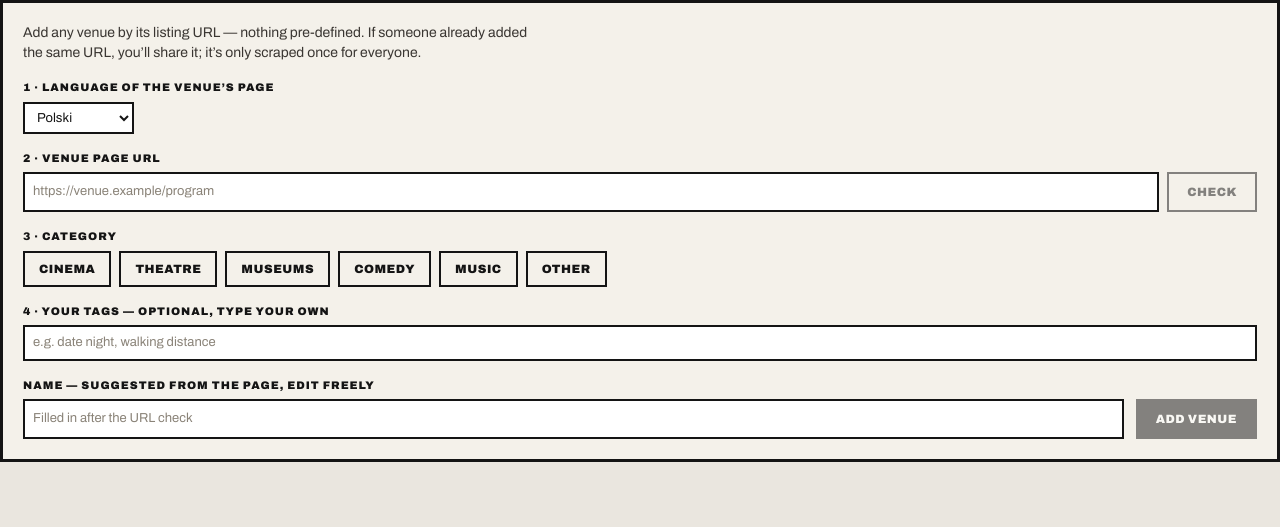
Test: AddVenueForm — failures render by severity, never raw › renders a needs_decision result as ink, not as breakage, and offers the way forward
Type "https://teatr.example/" into the field labelled "2 · Venue page URL" at (591, 192), box left=23, top=172, right=1159, bottom=212
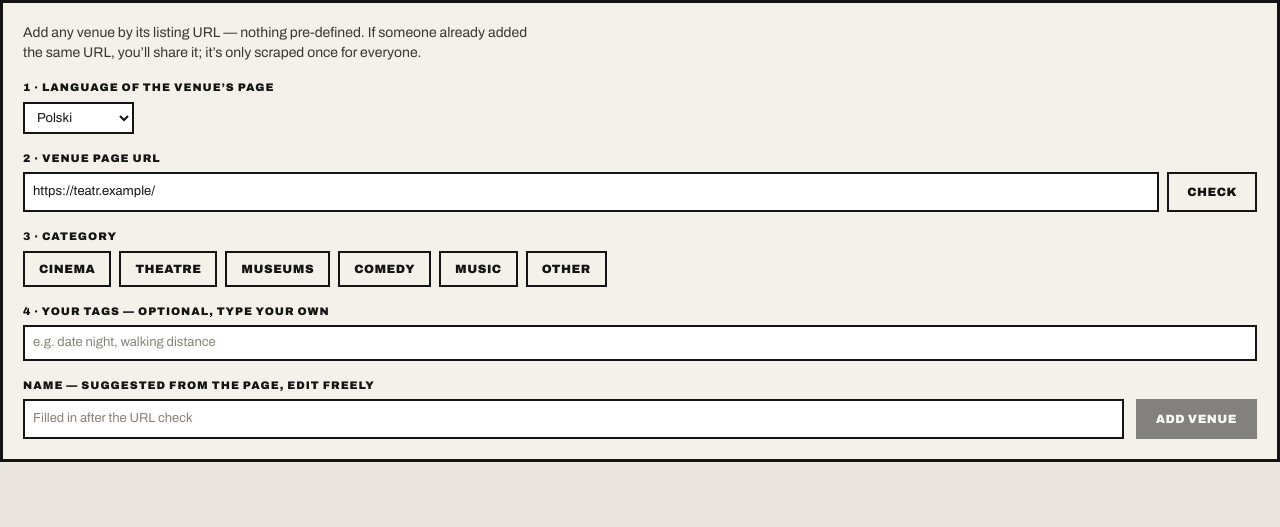
Click the button "Check" at (1212, 192), box left=1167, top=172, right=1257, bottom=212
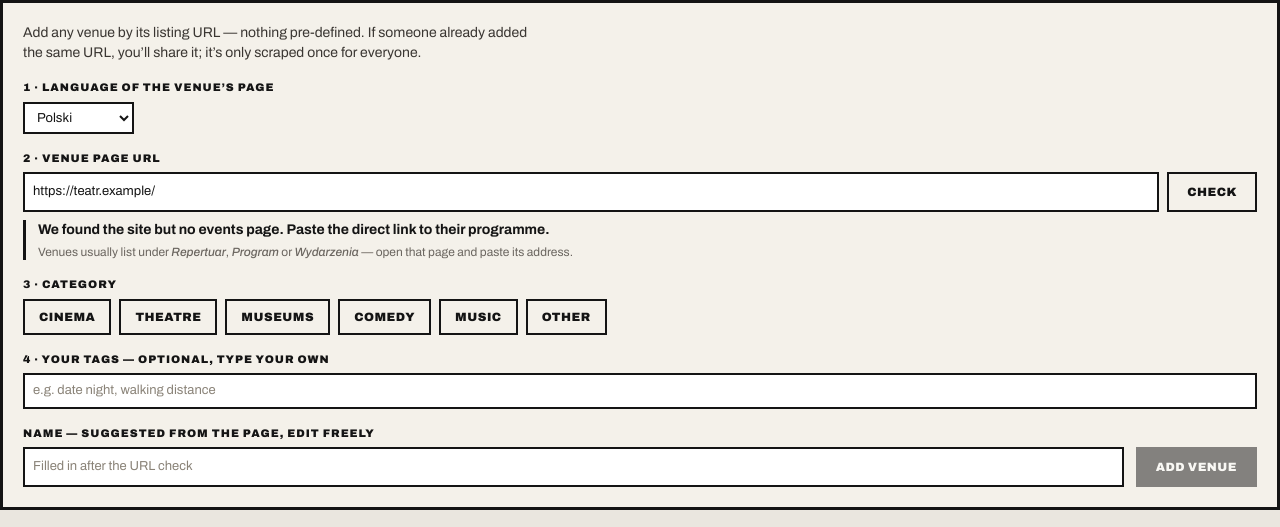
Now the message shows "Repertuar", box left=171, top=245, right=226, bottom=259
